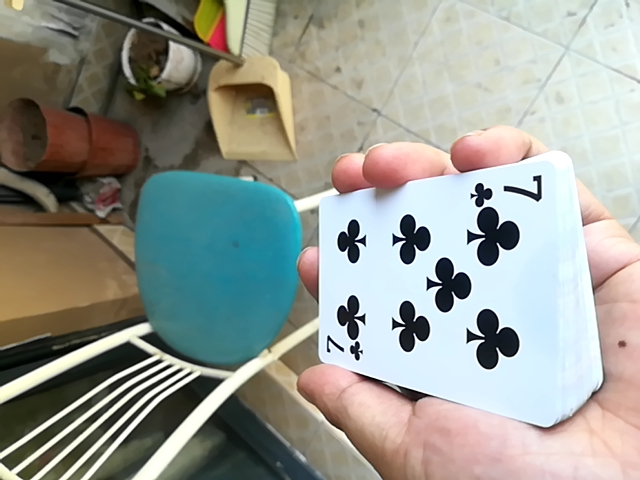mh 7: (306, 148, 590, 425)
